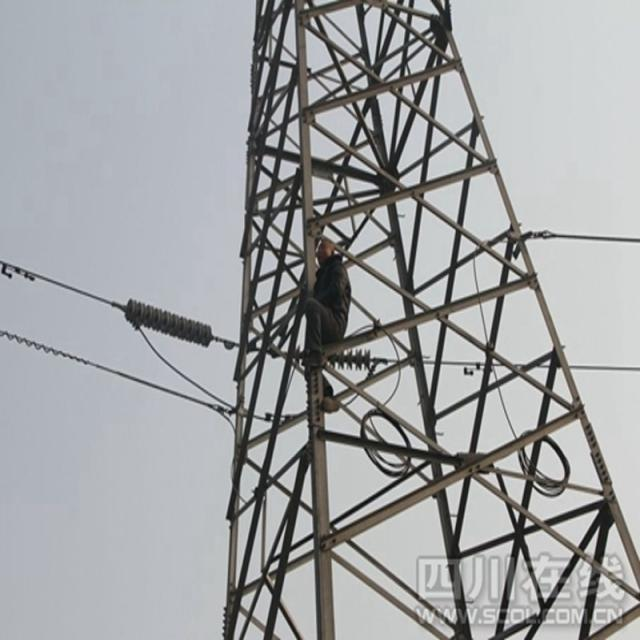non-critical vegetation: (166, 0, 636, 624)
